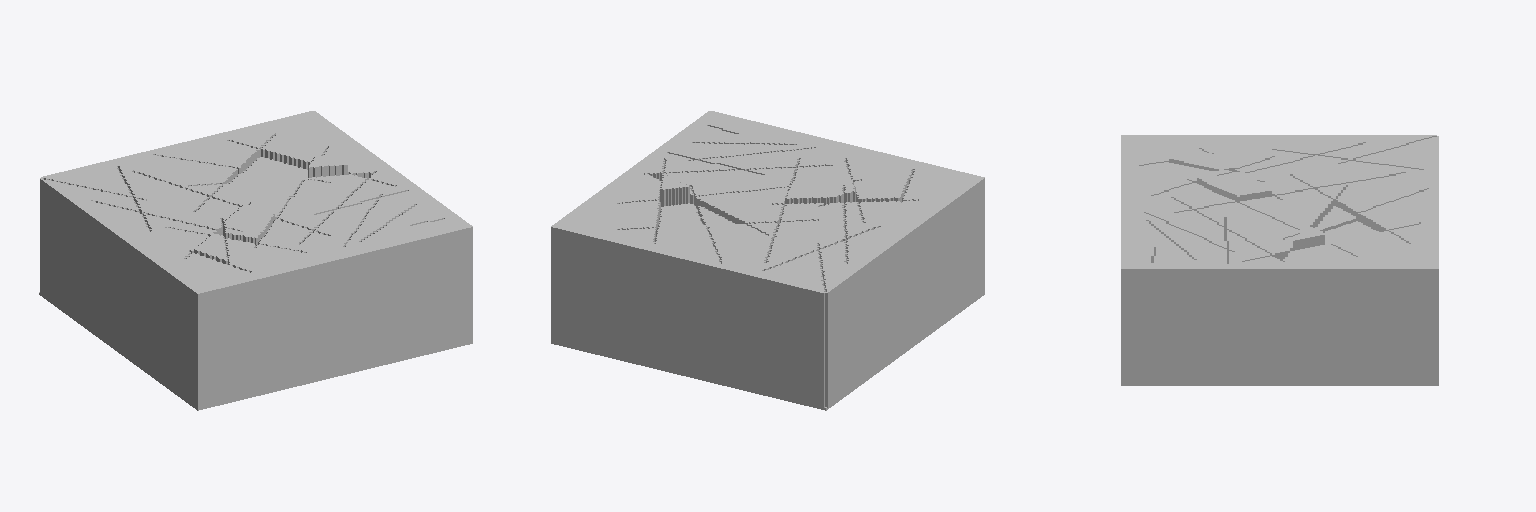
Rendered from Enemy.obj.
The picture shows the model from 3 angles: view 1: azimuth 30°, elevation 25°; view 2: azimuth 150°, elevation 25°; view 3: azimuth 270°, elevation 25°; orthographic projection.
Parts seen in each view (by area): view 1: object 1; view 2: object 1; view 3: object 1.
Boxes of the visible parts, <box> form: object 1: <box>39,111,472,410</box>; object 1: <box>551,111,984,410</box>; object 1: <box>1121,135,1438,385</box>.
Bounding box in the file's own units: 12.6 × 5.5 × 12.6.